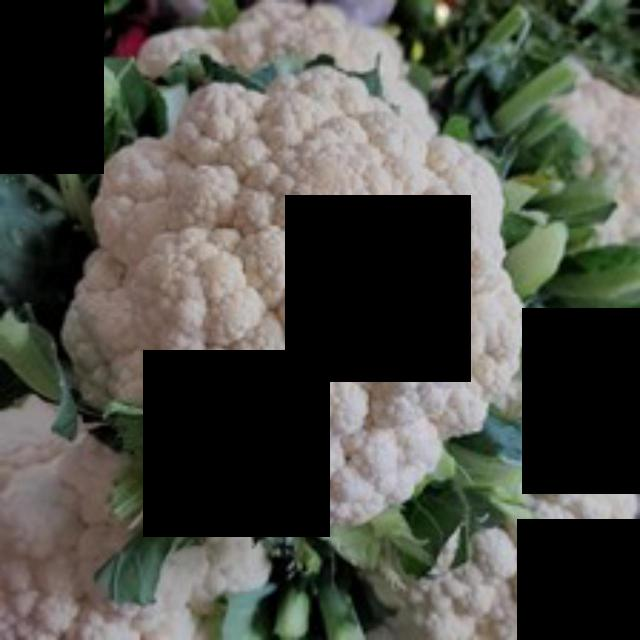cauliflower: (46, 52, 556, 539)
